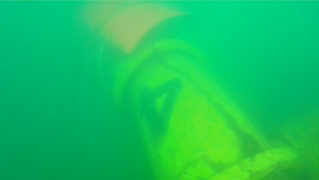4: (138, 76, 184, 149)
leak: (94, 1, 200, 55)
pipe: (110, 35, 305, 180), (267, 111, 319, 167)
